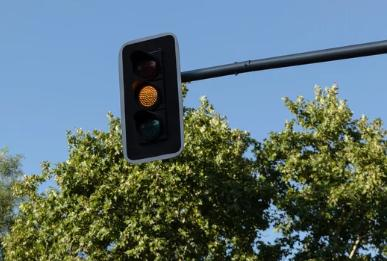yellow_light: (119, 33, 183, 162)
